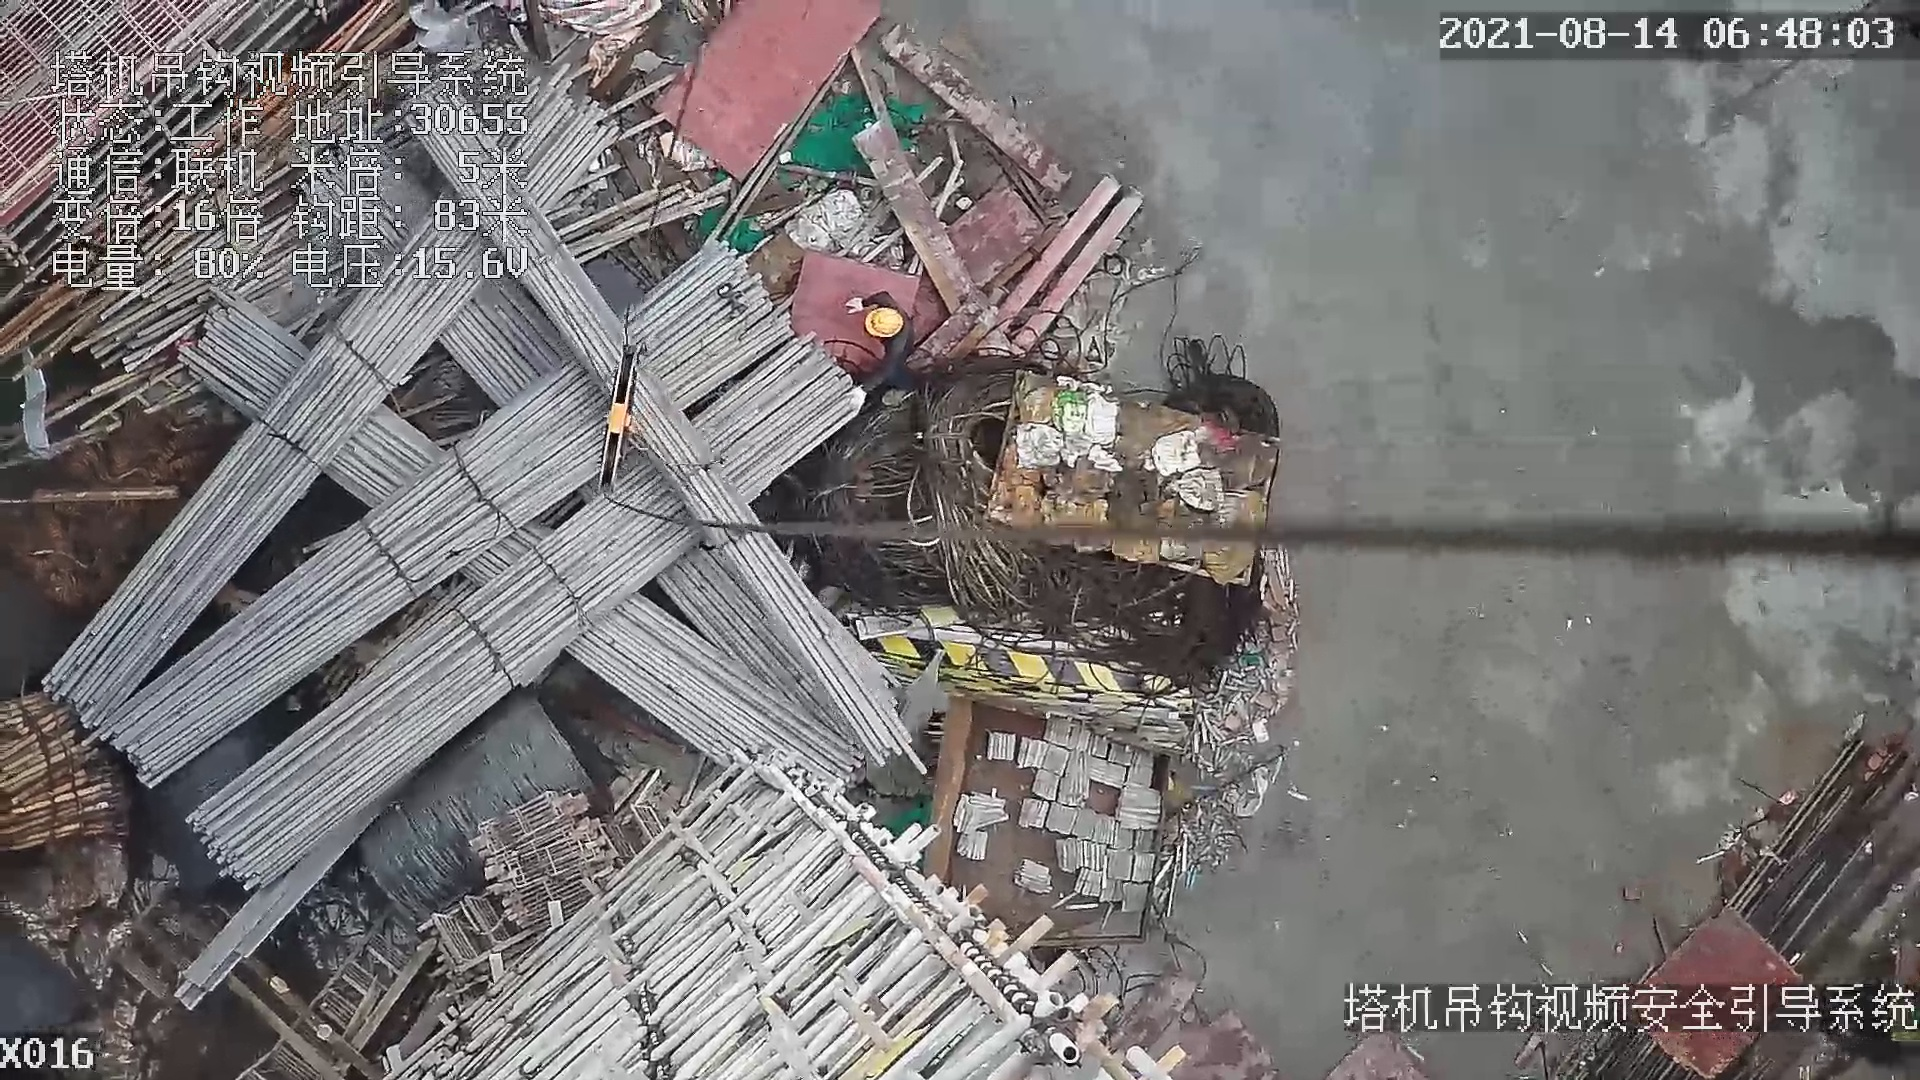board: (652, 4, 885, 179)
helmet: (863, 306, 906, 335)
hook: (595, 335, 637, 500)
person: (847, 285, 918, 397)
scaffold: (1, 697, 138, 841)
